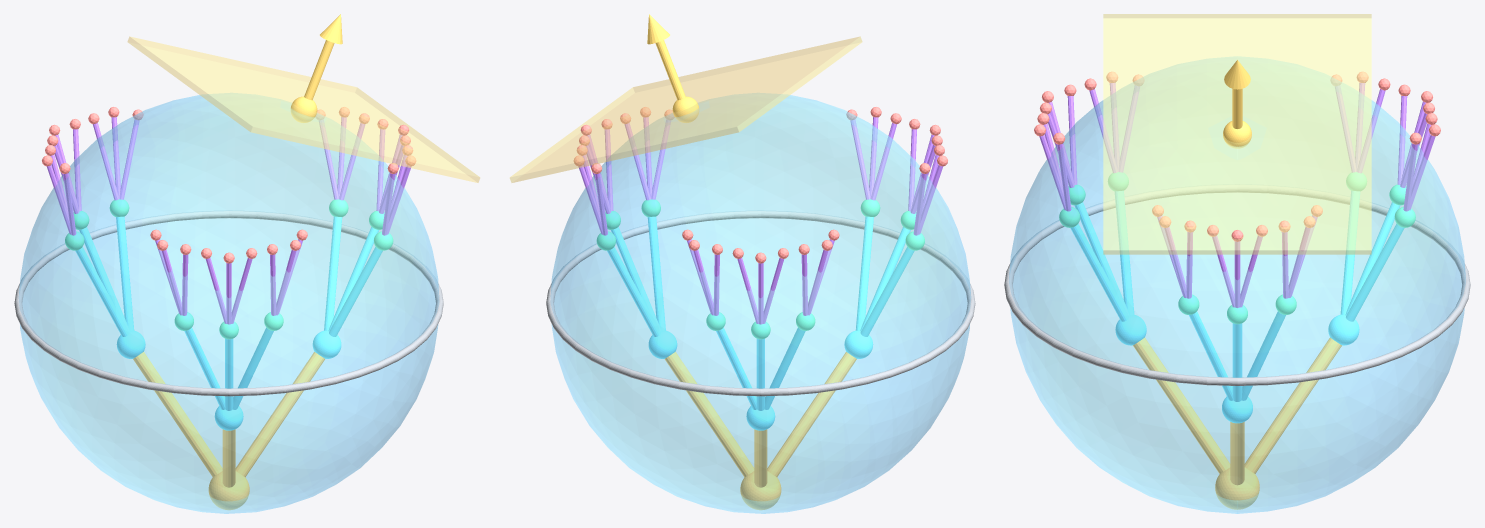
File: padic_stone_hull.glb
3 views of the same model, side by side, from view 1: azimuth 30°, elevation 25°; view 2: azimuth 150°, elevation 25°; view 3: azimuth 270°, elevation 25° (orthographic). The views are drawn at different scales.
Parts seen in each view (by area): view 1: Mesh_HaloGlass, Mesh_ShadowShell, Mesh_UltrafilterViolet, Mesh_InfinitesimalCyan, Mesh_StandardSilver, Mesh_HyperGold, Mesh_UnlimitedCoral, Mesh_GalaxyEmerald; view 2: Mesh_HaloGlass, Mesh_ShadowShell, Mesh_UltrafilterViolet, Mesh_InfinitesimalCyan, Mesh_StandardSilver, Mesh_HyperGold, Mesh_UnlimitedCoral, Mesh_GalaxyEmerald; view 3: Mesh_HaloGlass, Mesh_ShadowShell, Mesh_InfinitesimalCyan, Mesh_UltrafilterViolet, Mesh_StandardSilver, Mesh_HyperGold, Mesh_UnlimitedCoral, Mesh_GalaxyEmerald.
Part boxes in pixels (<box>): Mesh_HaloGlass: <box>18,93,439,513</box>; Mesh_ShadowShell: <box>127,36,479,182</box>; Mesh_UltrafilterViolet: <box>46,117,411,324</box>; Mesh_InfinitesimalCyan: <box>75,216,382,430</box>; Mesh_StandardSilver: <box>14,210,443,396</box>; Mesh_HyperGold: <box>133,14,342,509</box>; Mesh_UnlimitedCoral: <box>42,107,416,263</box>; Mesh_GalaxyEmerald: <box>65,199,393,339</box>; Mesh_HaloGlass: <box>550,93,971,513</box>; Mesh_ShadowShell: <box>510,36,862,182</box>; Mesh_UltrafilterViolet: <box>578,117,943,324</box>; Mesh_InfinitesimalCyan: <box>607,216,914,430</box>; Mesh_StandardSilver: <box>546,210,975,396</box>; Mesh_HyperGold: <box>647,14,856,509</box>; Mesh_UnlimitedCoral: <box>573,107,947,263</box>; Mesh_GalaxyEmerald: <box>596,199,924,339</box>; Mesh_HaloGlass: <box>1009,56,1465,513</box>; Mesh_ShadowShell: <box>1103,14,1371,254</box>; Mesh_InfinitesimalCyan: <box>1070,191,1404,423</box>; Mesh_UltrafilterViolet: <box>1039,83,1435,307</box>; Mesh_StandardSilver: <box>1004,184,1470,385</box>; Mesh_HyperGold: <box>1133,60,1341,509</box>; Mesh_UnlimitedCoral: <box>1034,71,1440,241</box>; Mesh_GalaxyEmerald: <box>1059,172,1415,324</box>.
Size of the model in its own units: 0.4219 by 0.5012 by 0.4176.
